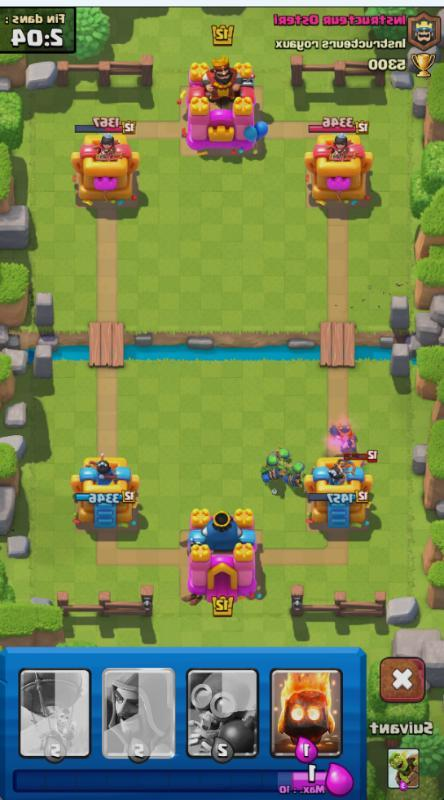player_goblins: (280, 461, 307, 489)
player_spear_goblins: (259, 447, 284, 484)
player_valkyrie: (318, 416, 365, 458)
